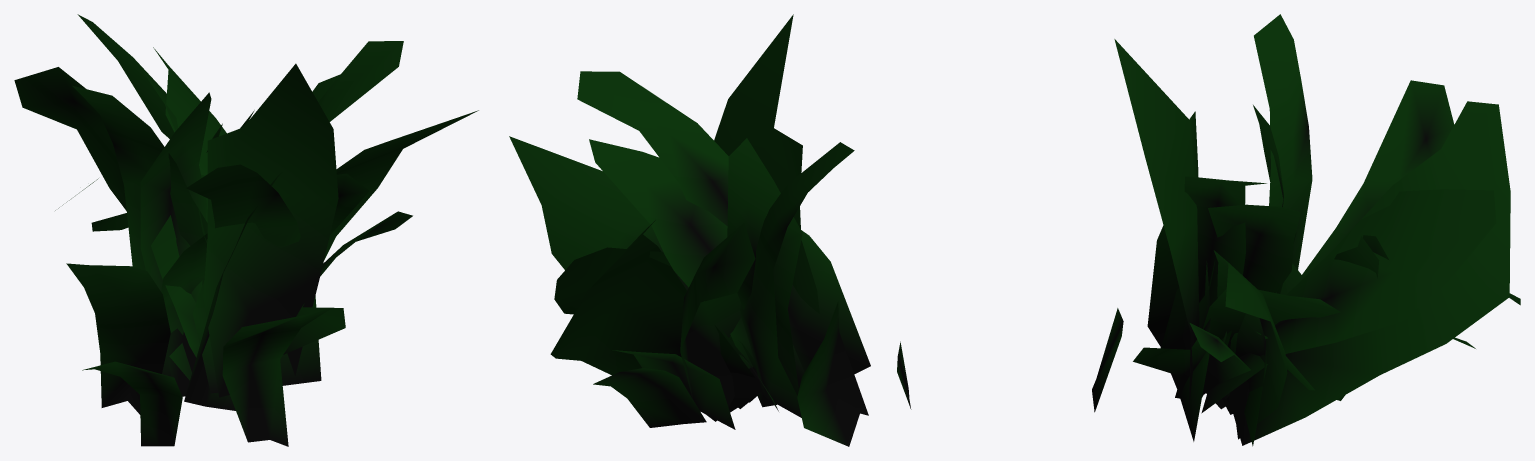
The model's file is GrassTallDryGCATA_J.fbx.
The picture shows the model from 3 angles, left to right: view 1: azimuth 30°, elevation 25°; view 2: azimuth 150°, elevation 25°; view 3: azimuth 270°, elevation 25°; orthographic projection. The views are drawn at different scales.
Parts seen in each view (by area): view 1: GTDJ_LOD0; view 2: GTDJ_LOD0; view 3: GTDJ_LOD0.
Part boxes in pixels (left/top/right/bottom): GTDJ_LOD0: left=14, top=14, right=478, bottom=446; GTDJ_LOD0: left=509, top=14, right=911, bottom=446; GTDJ_LOD0: left=1092, top=14, right=1520, bottom=446.
Size of what is drawn, in the model's own units: 2.25 by 1.84 by 2.22.
